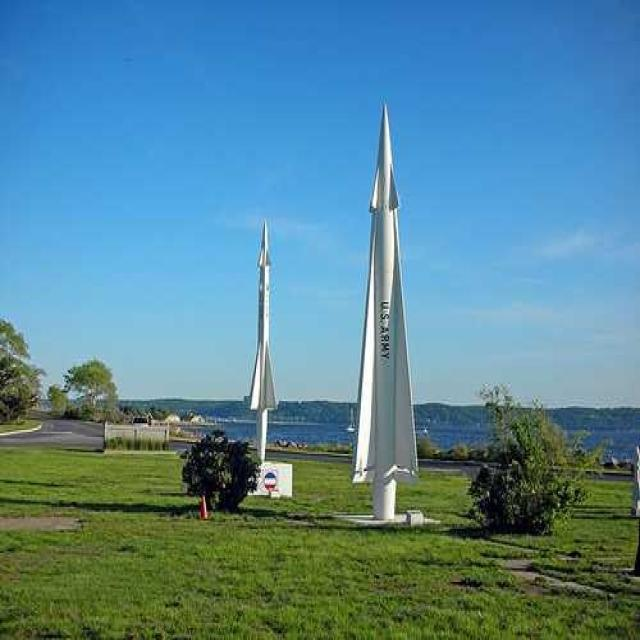missile: (356, 99, 428, 514), (251, 213, 278, 456)
